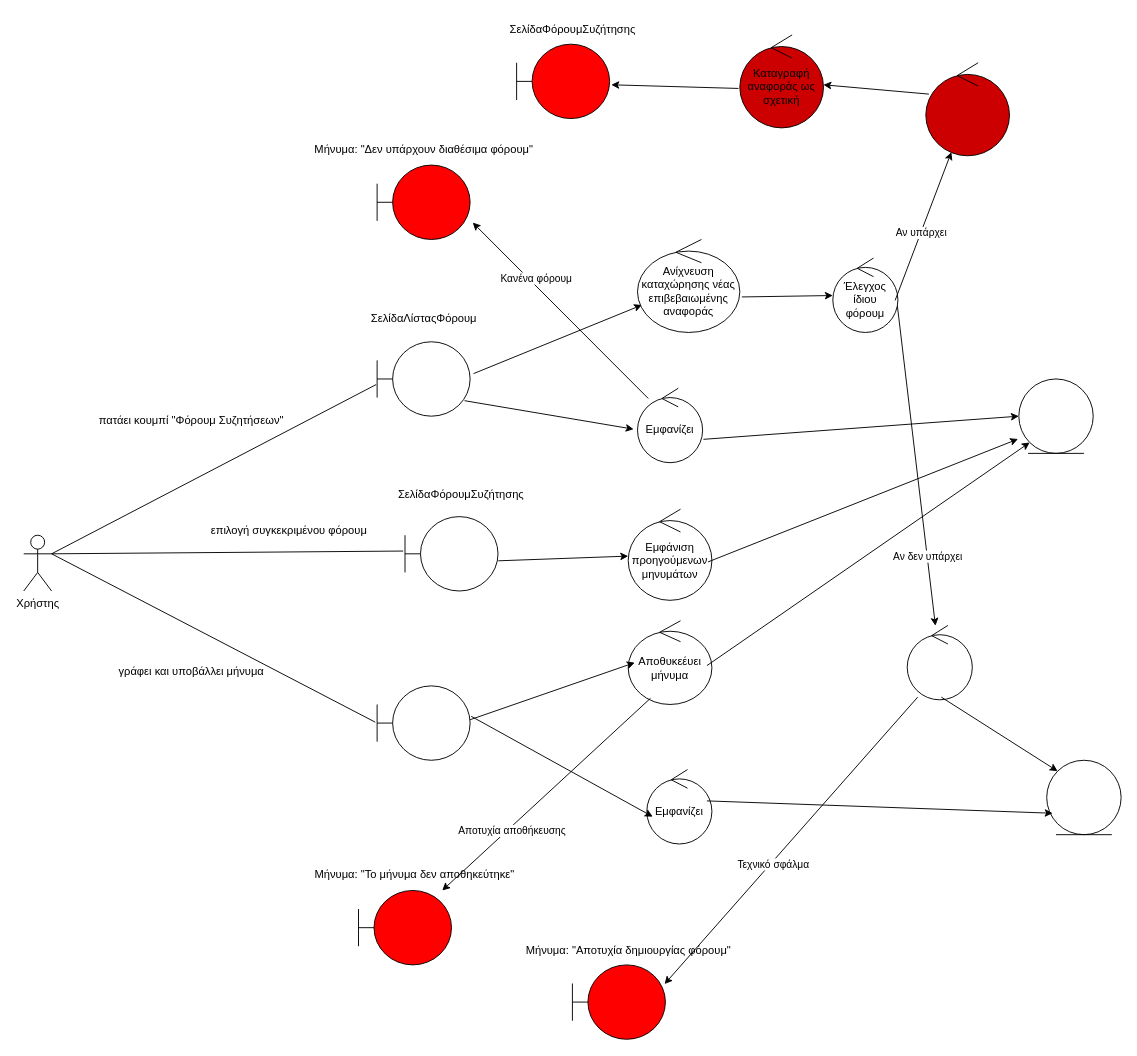
Image size: 1137x1056. Some labels were removed from this diagram. The shapes that lost their labels are listed below. From the top down, each one's centre as x and y in pixels, then its label:
the point at 967,109: Σύνδεση αναφοράς με υπάρχον φόρουμ
the point at 1055,415: Βάση Δεδομένων
the point at 939,662: Δημιουργία νέου
the point at 1083,797: Φόρουμ
